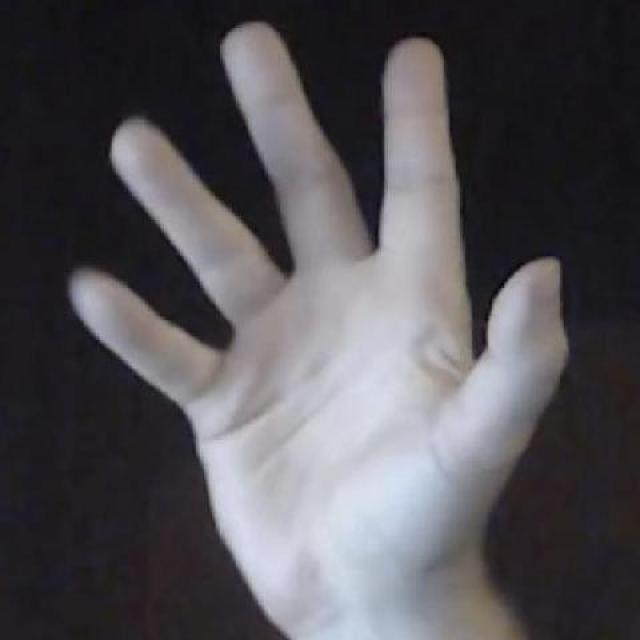Open Hand: (50, 18, 582, 640)
